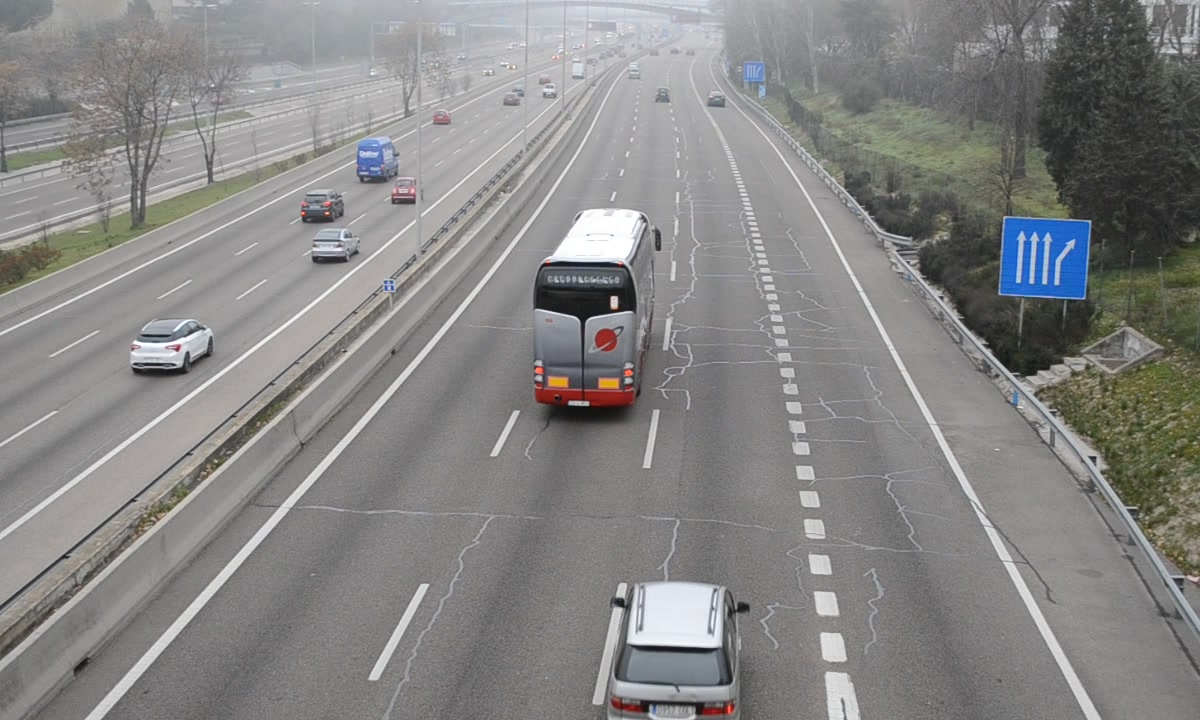bus: (532, 208, 653, 414)
car: (606, 583, 749, 719), (706, 89, 727, 108)
